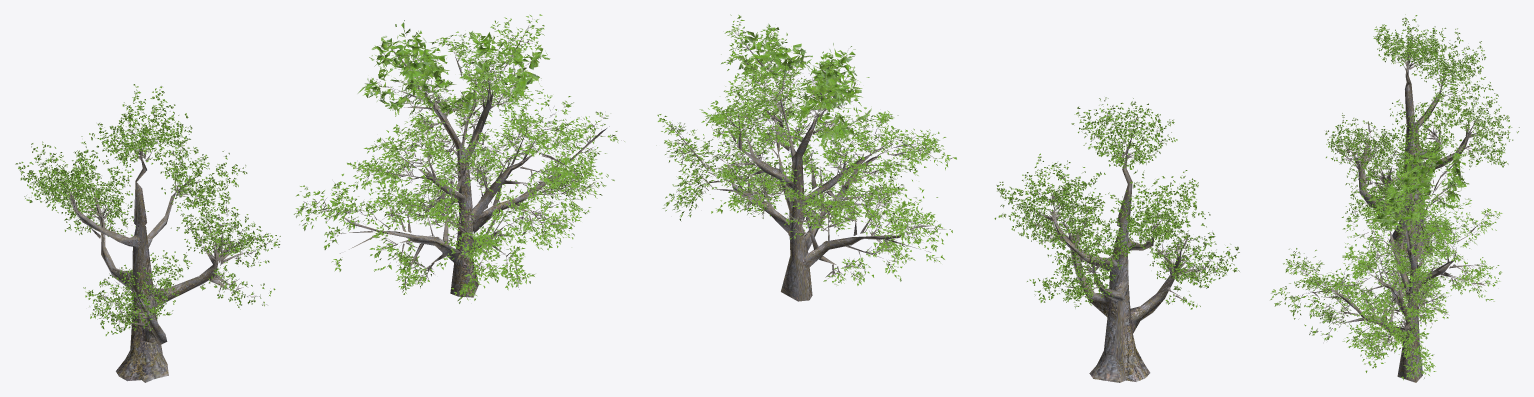
3 views of the same model, side by side, from view 1: azimuth 30°, elevation 25°; view 2: azimuth 150°, elevation 25°; view 3: azimuth 270°, elevation 25° (orthographic). The views are drawn at different scales.
Visible parts, largest first — view 1: Tree_0, Tree.001_1; view 2: Tree_0, Tree.001_1; view 3: Tree_0, Tree.001_1.
Boxes of the visible parts, box(x1,y1,x2,y2) form: Tree_0: box(293, 14, 624, 303); Tree.001_1: box(15, 84, 280, 382); Tree_0: box(656, 14, 956, 301); Tree.001_1: box(994, 97, 1239, 382); Tree_0: box(1270, 138, 1502, 382); Tree.001_1: box(1325, 14, 1519, 255).
Bounding box in the file's own units: 15.92 × 7.33 × 7.26.
Materials: 2 (2 with a texture image).
